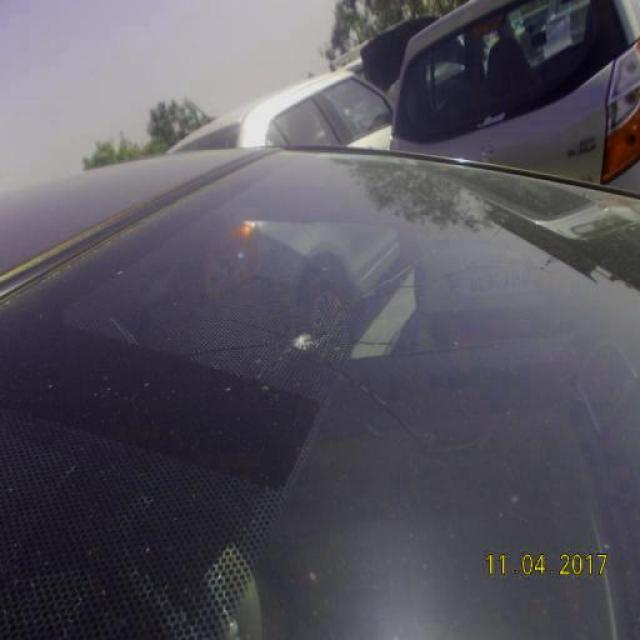car damage: (286, 324, 322, 359)
